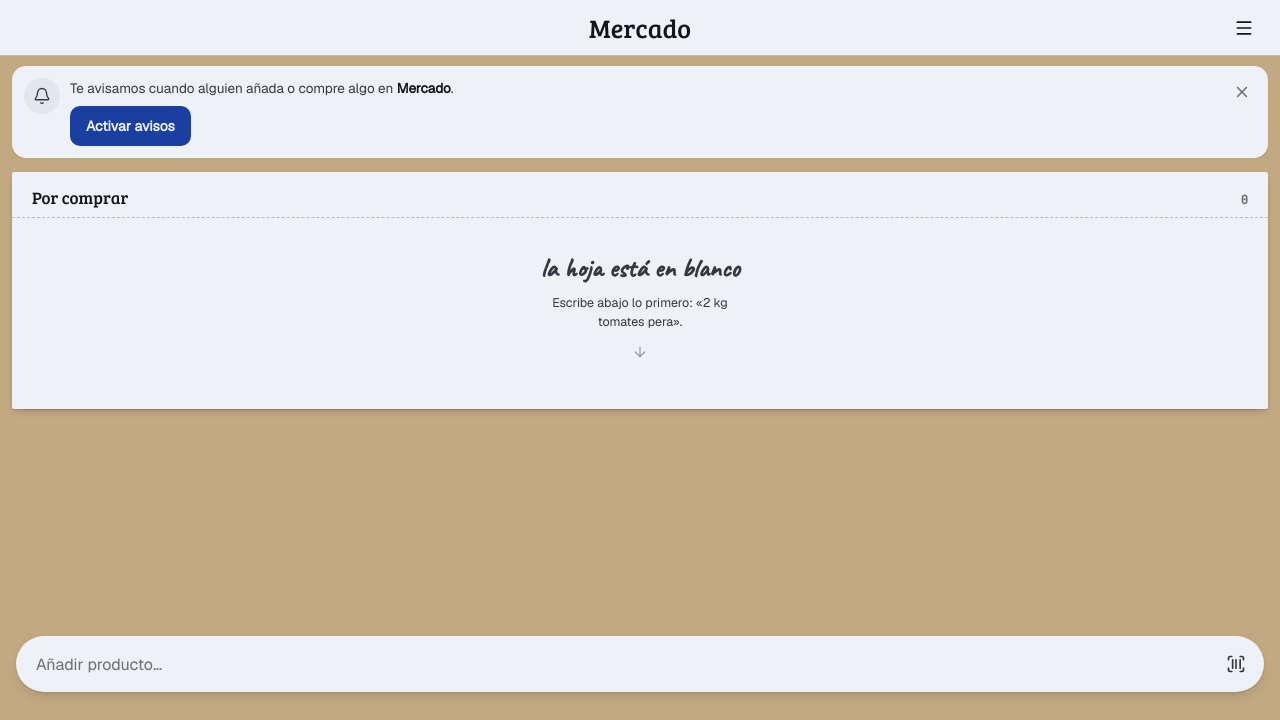
Test: notification priming card › a rejected enable shows a notice instead of failing silently
Click the button "Activar avisos" at (130, 126), box x1=70 y1=106 x2=191 y2=146
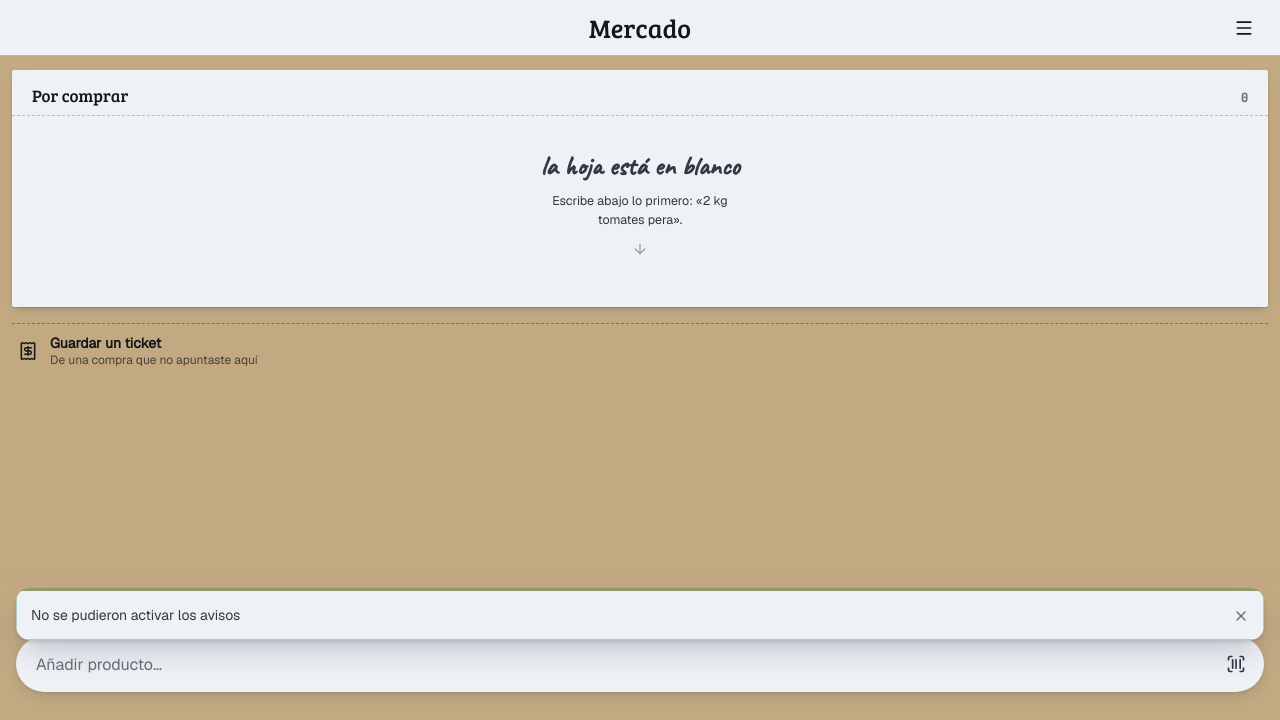
Check: the message reads "No se pudieron activar los avisos", box x1=31 y1=606 x2=240 y2=624
